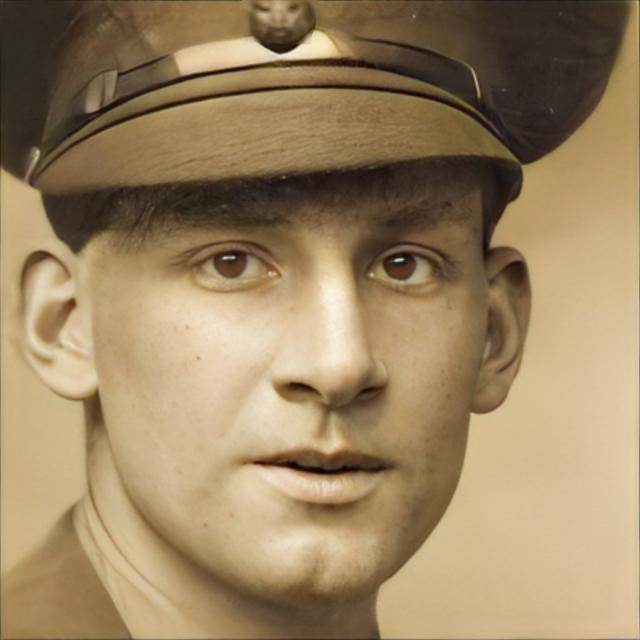neutral: (98, 158, 488, 600)
